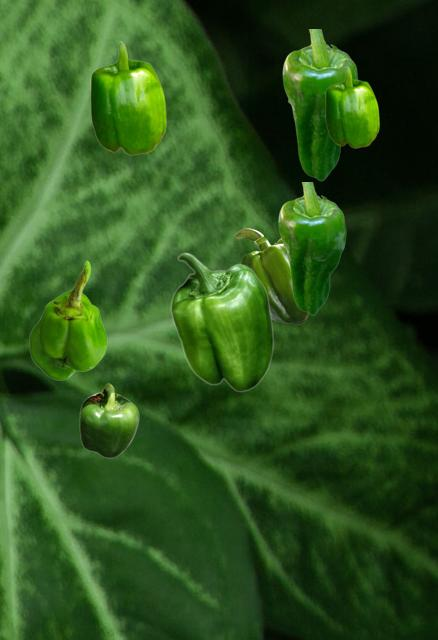bell_pepper: (170, 252, 273, 391), (282, 29, 358, 180), (29, 260, 106, 379), (278, 182, 345, 314), (90, 41, 165, 154), (234, 228, 308, 323), (79, 383, 138, 457), (325, 66, 378, 147)
